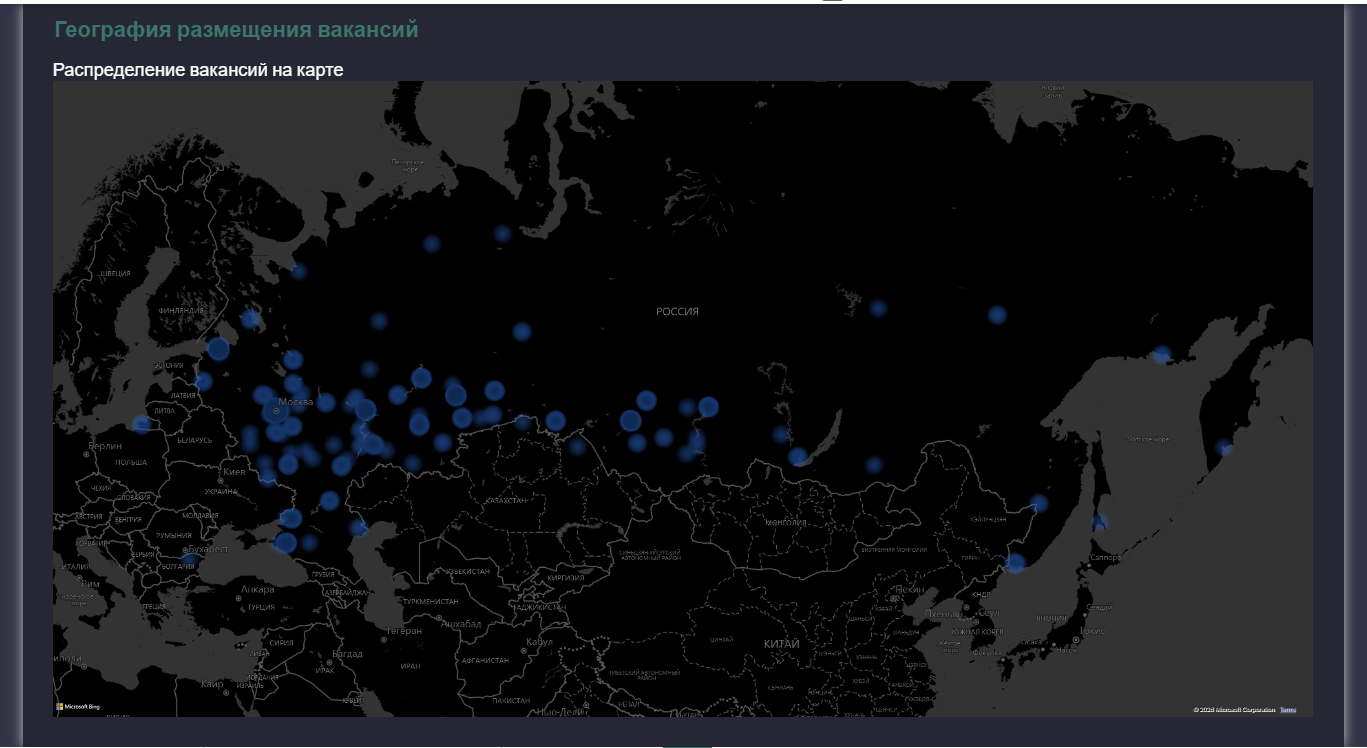

Layout of this report page (visuals, bound fields, positions):
{"tool":"powerbi","page":{"name":"Карта вакансий","canvas":[1920,1080],"ordinal":2},"visuals":[{"type":"map","title":"Распределение вакансий на карте","fields":{"Category":["Все_вакансии.адрес"]},"box":[38.1,79.9,1841.2,960.5],"z":0},{"type":"textbox","box":[40,15,900,60],"z":1}]}

Visuals, with their boxes in screenshot pixels (x1, y1, x2, y2), scaled from the page's 1920x1080 canvas onto the 1367x748 screenshot:
"Распределение вакансий на карте" map: 27:55:1338:721
textbox: 28:10:669:52
